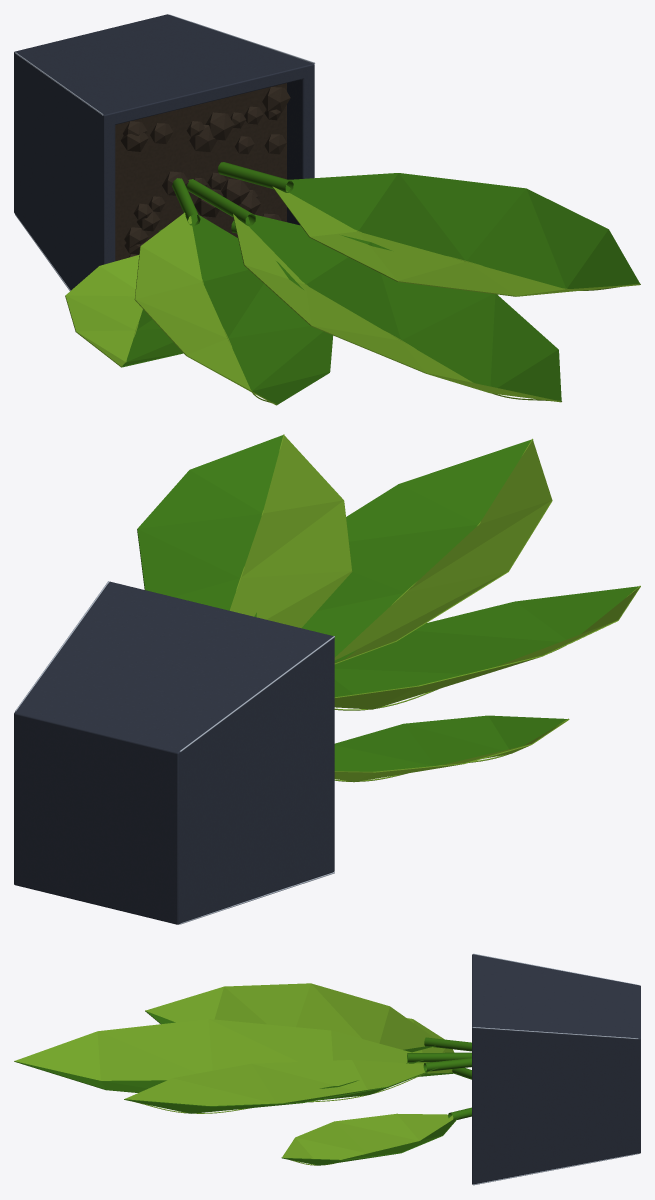
File: plant.glb
The picture shows the model from 3 angles, top to bottom: view 1: azimuth 30°, elevation 25°; view 2: azimuth 150°, elevation 25°; view 3: azimuth 270°, elevation 25°; orthographic projection. The views are drawn at different scales.
Parts seen in each view (by area): view 1: Leaf_Green, Graphite, Leaf_Light, Soil, Machined_Aluminium; view 2: Graphite, Leaf_Green, Leaf_Light, Machined_Aluminium; view 3: Leaf_Light, Graphite, Leaf_Green, Machined_Aluminium.
Boxes of the visible parts, x1,y1,x2,y2 form: Leaf_Green: (121, 162, 639, 404); Graphite: (14, 14, 314, 290); Leaf_Light: (65, 186, 640, 405); Soil: (115, 83, 290, 261); Machined_Aluminium: (15, 14, 314, 290); Graphite: (14, 581, 334, 924); Leaf_Green: (137, 435, 638, 771); Leaf_Light: (229, 434, 640, 782); Machined_Aluminium: (15, 581, 334, 924); Leaf_Light: (14, 983, 454, 1165); Graphite: (472, 954, 640, 1184); Leaf_Green: (14, 1011, 471, 1165); Machined_Aluminium: (472, 953, 638, 1185).
Size of the model in its own units: 0.673 by 0.334 by 1.2.
Materials: 5 (2 with a texture image).
